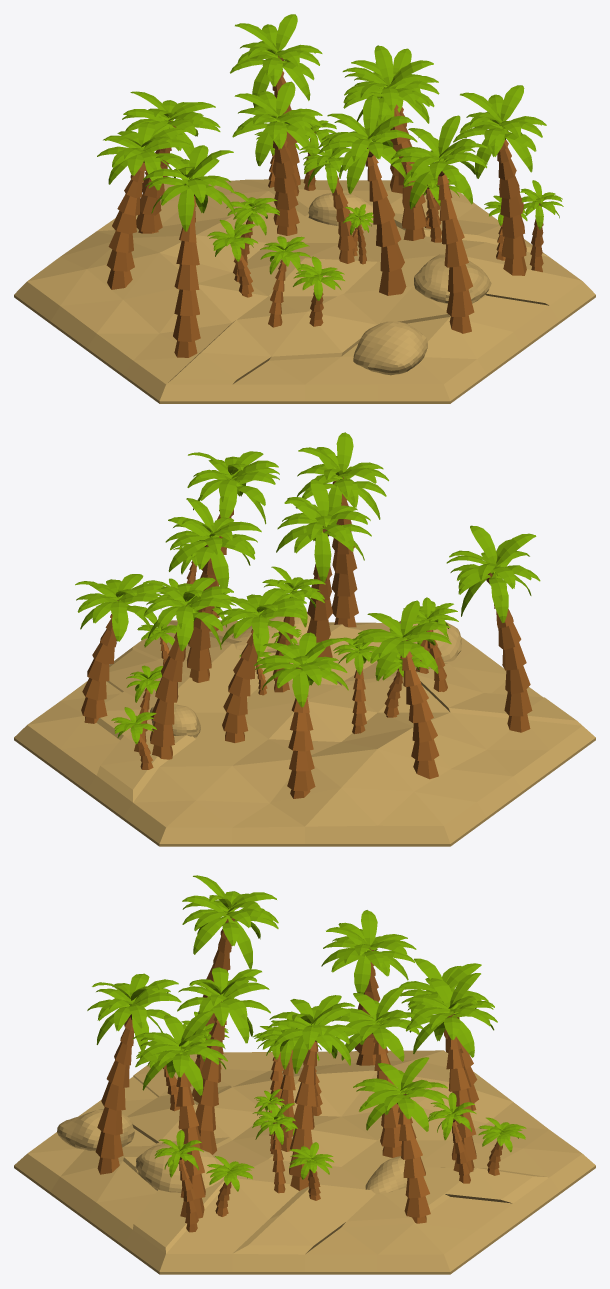
The model's file is beach.glb.
3 views of the same model, one above another, from view 1: azimuth 30°, elevation 25°; view 2: azimuth 150°, elevation 25°; view 3: azimuth 270°, elevation 25° (orthographic).
Visible parts, largest first — view 1: desert; view 2: desert; view 3: desert.
Boxes of the visible parts, x1,y1,x2,y2 form: desert: [14, 14, 595, 403]; desert: [14, 432, 595, 846]; desert: [14, 875, 595, 1274].
Bounding box in the file's own units: 1.73 × 0.8252 × 2.
